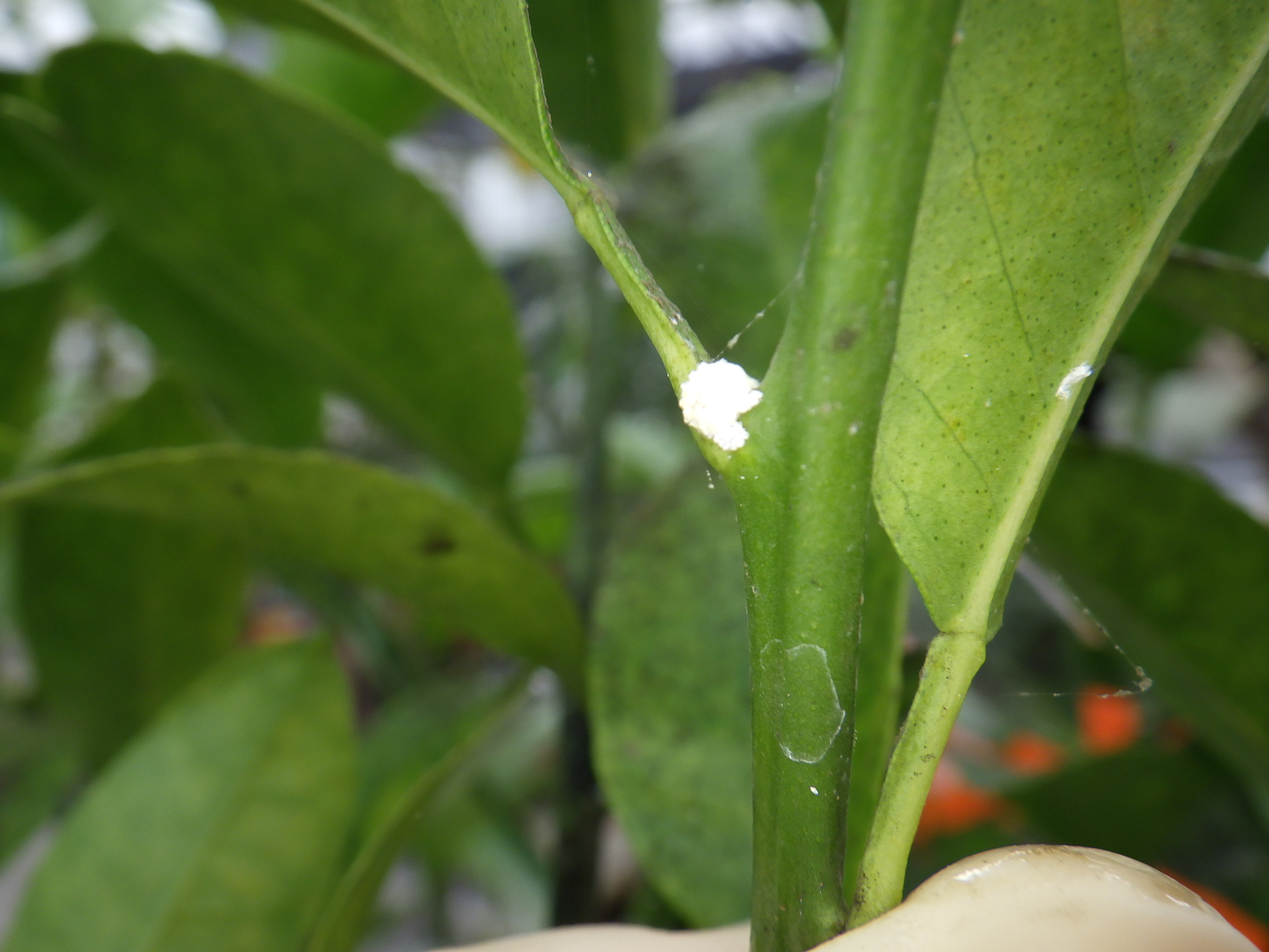Scale_Insect: (680, 359, 762, 451)
